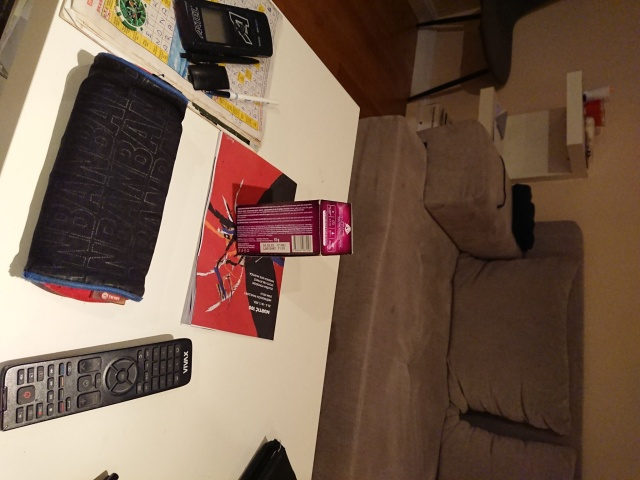Franck Black Currant Tea 60g: (232, 196, 356, 260)
